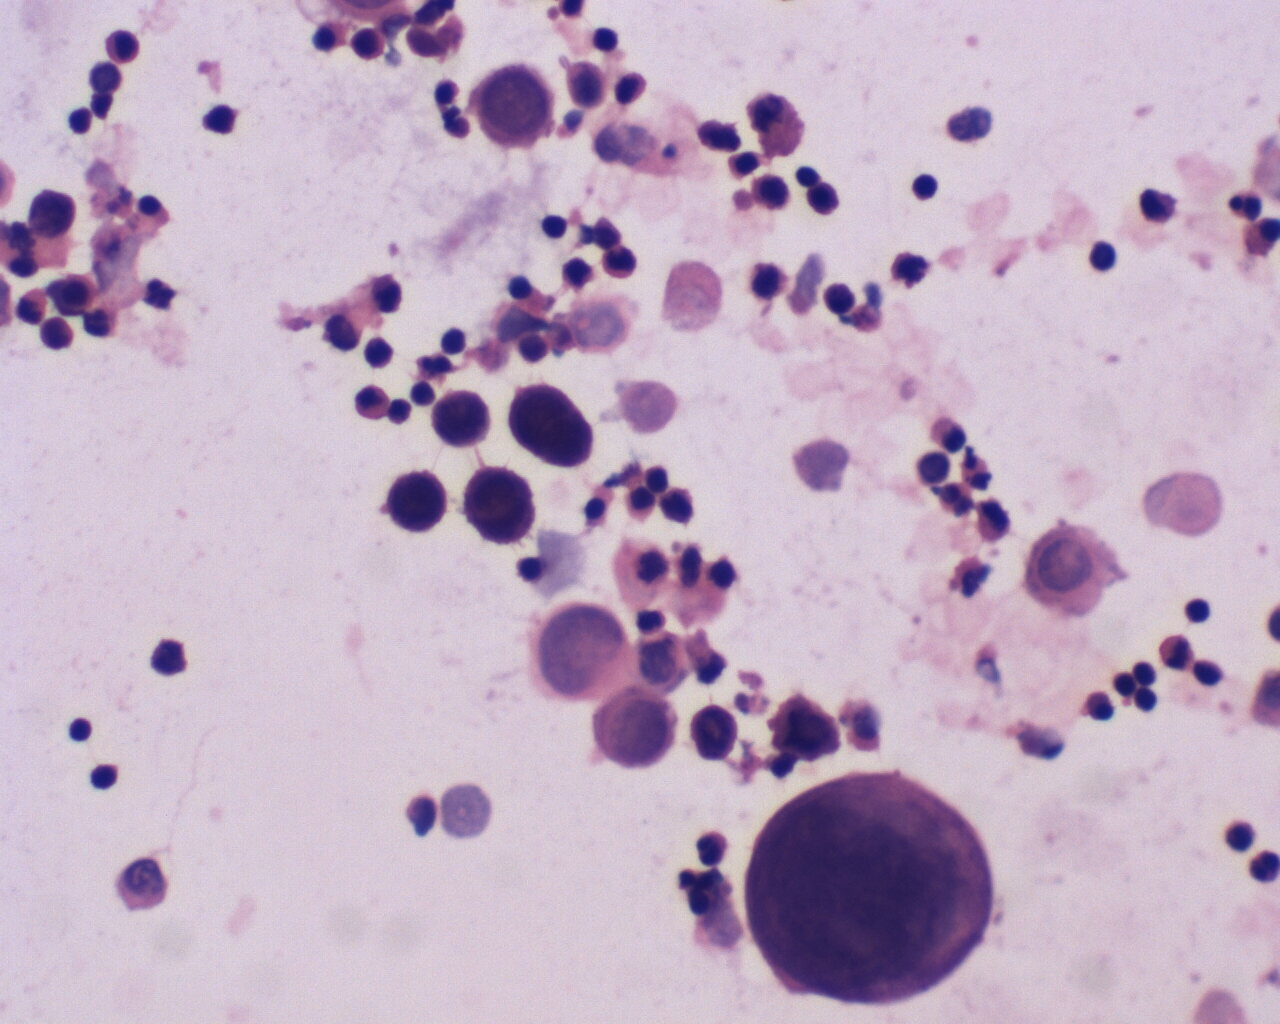ab: (738, 773, 995, 1010), (1020, 516, 1127, 624), (466, 59, 560, 152), (506, 379, 597, 468), (588, 684, 677, 775), (464, 464, 536, 549), (764, 693, 841, 764), (383, 465, 450, 537), (427, 390, 493, 448), (686, 704, 743, 763), (28, 186, 79, 239)
lymph: (1085, 235, 1123, 279), (1220, 818, 1262, 858), (587, 22, 630, 61), (86, 754, 123, 797), (63, 713, 100, 752), (904, 170, 948, 204), (535, 208, 573, 247), (436, 322, 475, 358), (1131, 686, 1166, 714)
neutro: (1225, 186, 1264, 226), (1160, 631, 1194, 673)
